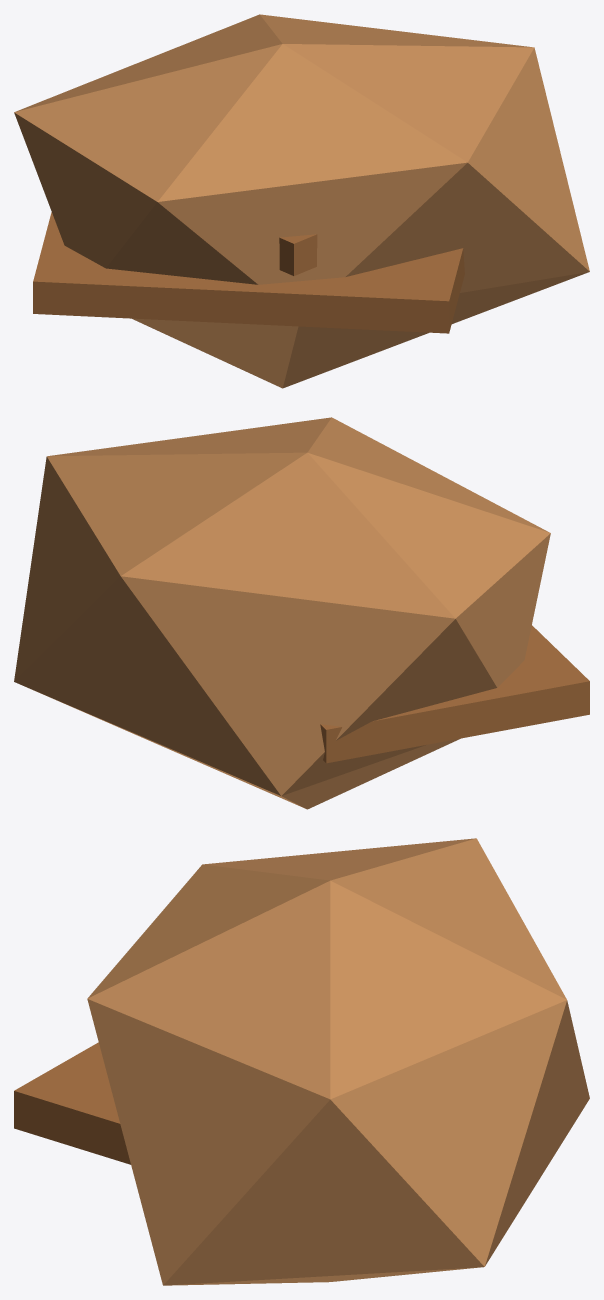
The model's file is klippa_2.glb.
The picture shows the model from 3 angles, top to bottom: view 1: azimuth 30°, elevation 25°; view 2: azimuth 150°, elevation 25°; view 3: azimuth 270°, elevation 25°; orthographic projection. The views are drawn at different scales.
Parts seen in each view (by area): view 1: klippa_2; view 2: klippa_2; view 3: klippa_2.
Boxes of the visible parts, bbox=[...] form: klippa_2: bbox=[14, 14, 589, 388]; klippa_2: bbox=[14, 417, 589, 809]; klippa_2: bbox=[14, 838, 589, 1285].
Size of the model in its own units: 4.15 by 2.67 by 3.47.
